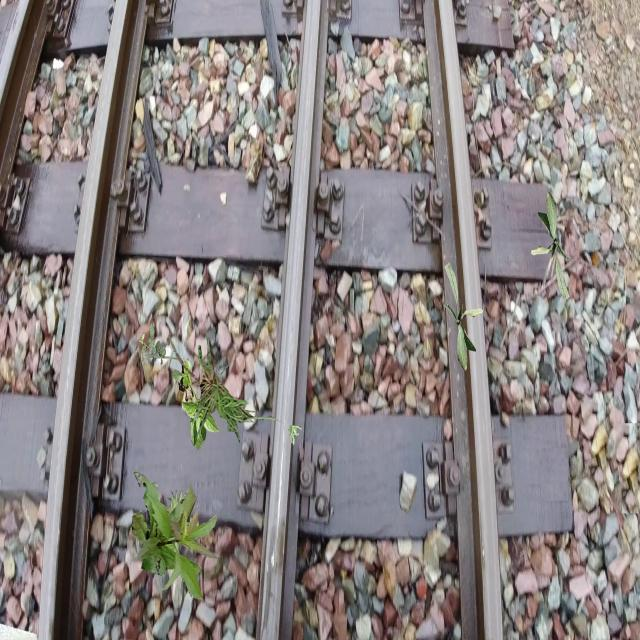Plant: (144, 324, 288, 444), (132, 472, 220, 602), (172, 356, 220, 451), (531, 192, 571, 302), (444, 262, 484, 372), (164, 490, 206, 562), (139, 324, 166, 365), (288, 425, 302, 446)
